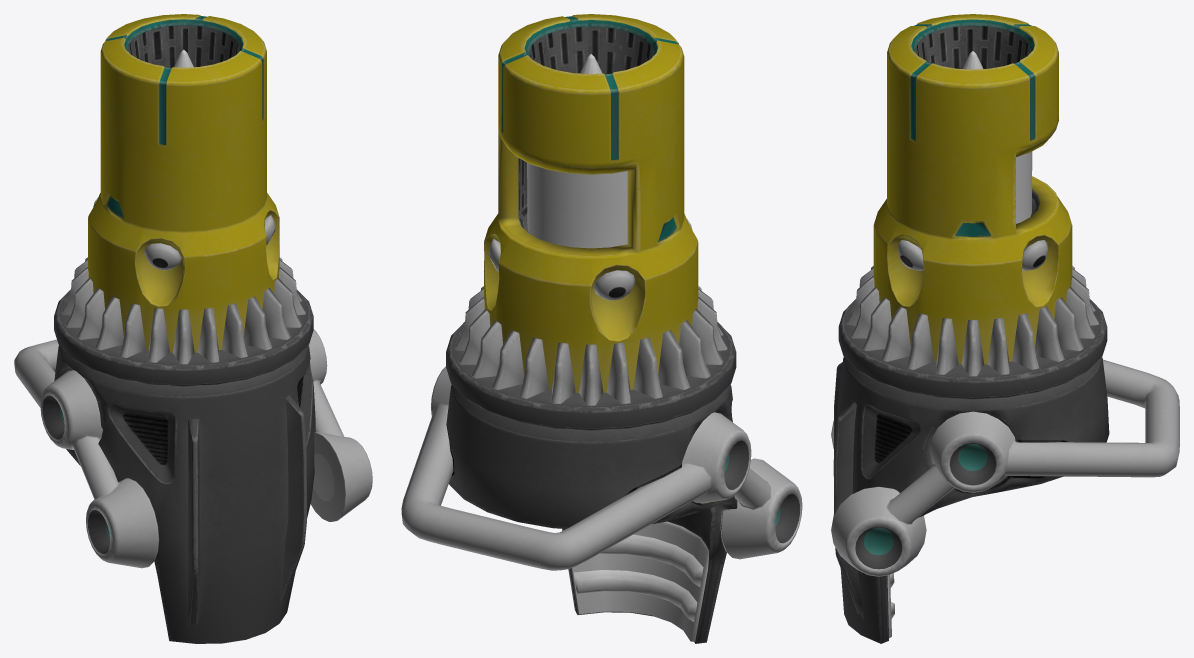
The model's file is Cyblaster.glb.
3 renders of one model, left to right at view 1: azimuth 30°, elevation 25°; view 2: azimuth 150°, elevation 25°; view 3: azimuth 270°, elevation 25°, orthographic. The views are drawn at different scales.
Parts seen in each view (by area): view 1: chr_cyblaster_body; view 2: chr_cyblaster_body; view 3: chr_cyblaster_body.
Boxes of the visible parts, x1,y1,x2,y2 form: chr_cyblaster_body: [14, 14, 372, 643]; chr_cyblaster_body: [401, 14, 802, 643]; chr_cyblaster_body: [831, 14, 1179, 643].
Size of the model in its own units: 0.3376 by 0.6809 by 0.377.
1 material, 1 textured.
